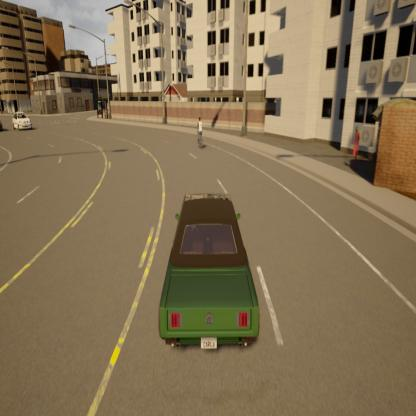Cars: (146, 186, 266, 362), (10, 107, 33, 134)
